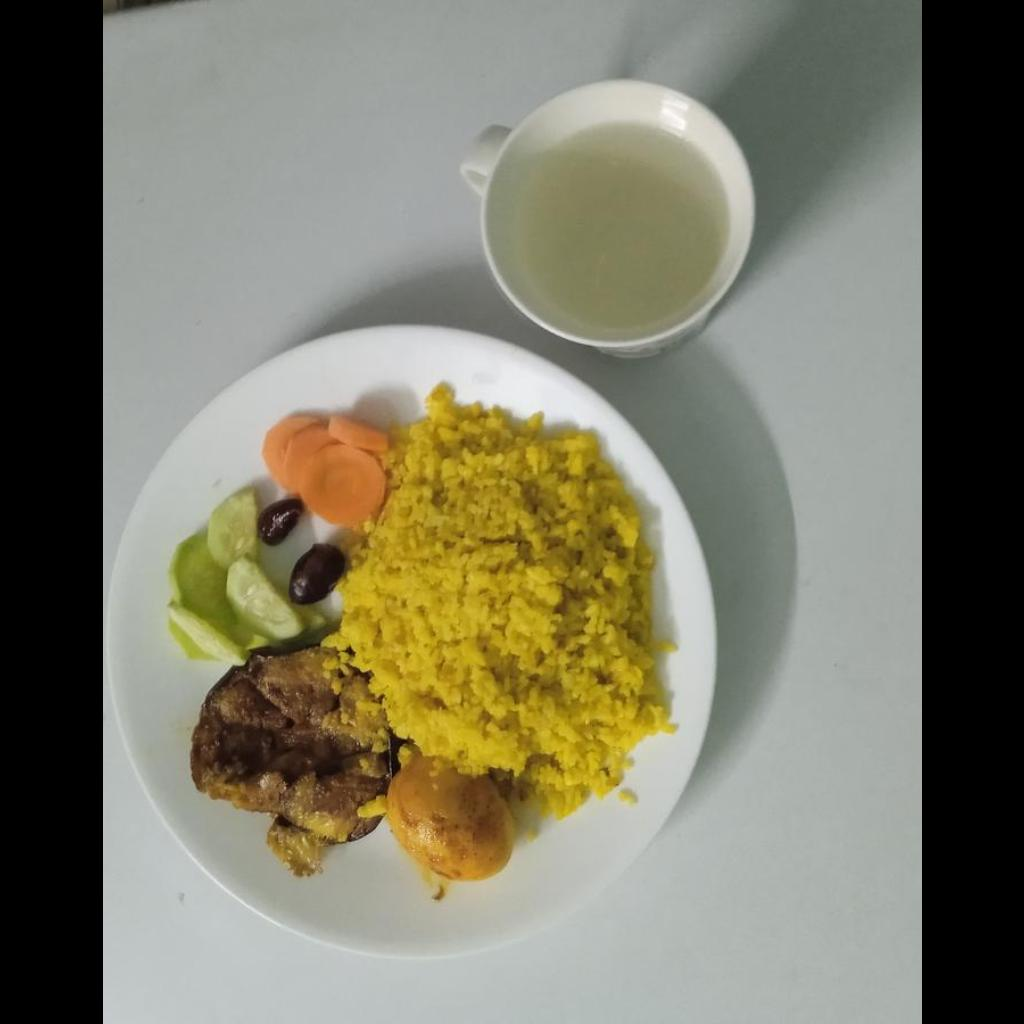begun-vaji: (190, 651, 378, 865)
carrot: (262, 414, 388, 528)
cucumber: (167, 486, 324, 663)
dates: (289, 543, 345, 605), (257, 496, 303, 546)
egg-boiled: (385, 750, 513, 882)
juice: (483, 81, 753, 348)
khichuri: (322, 385, 670, 817)
